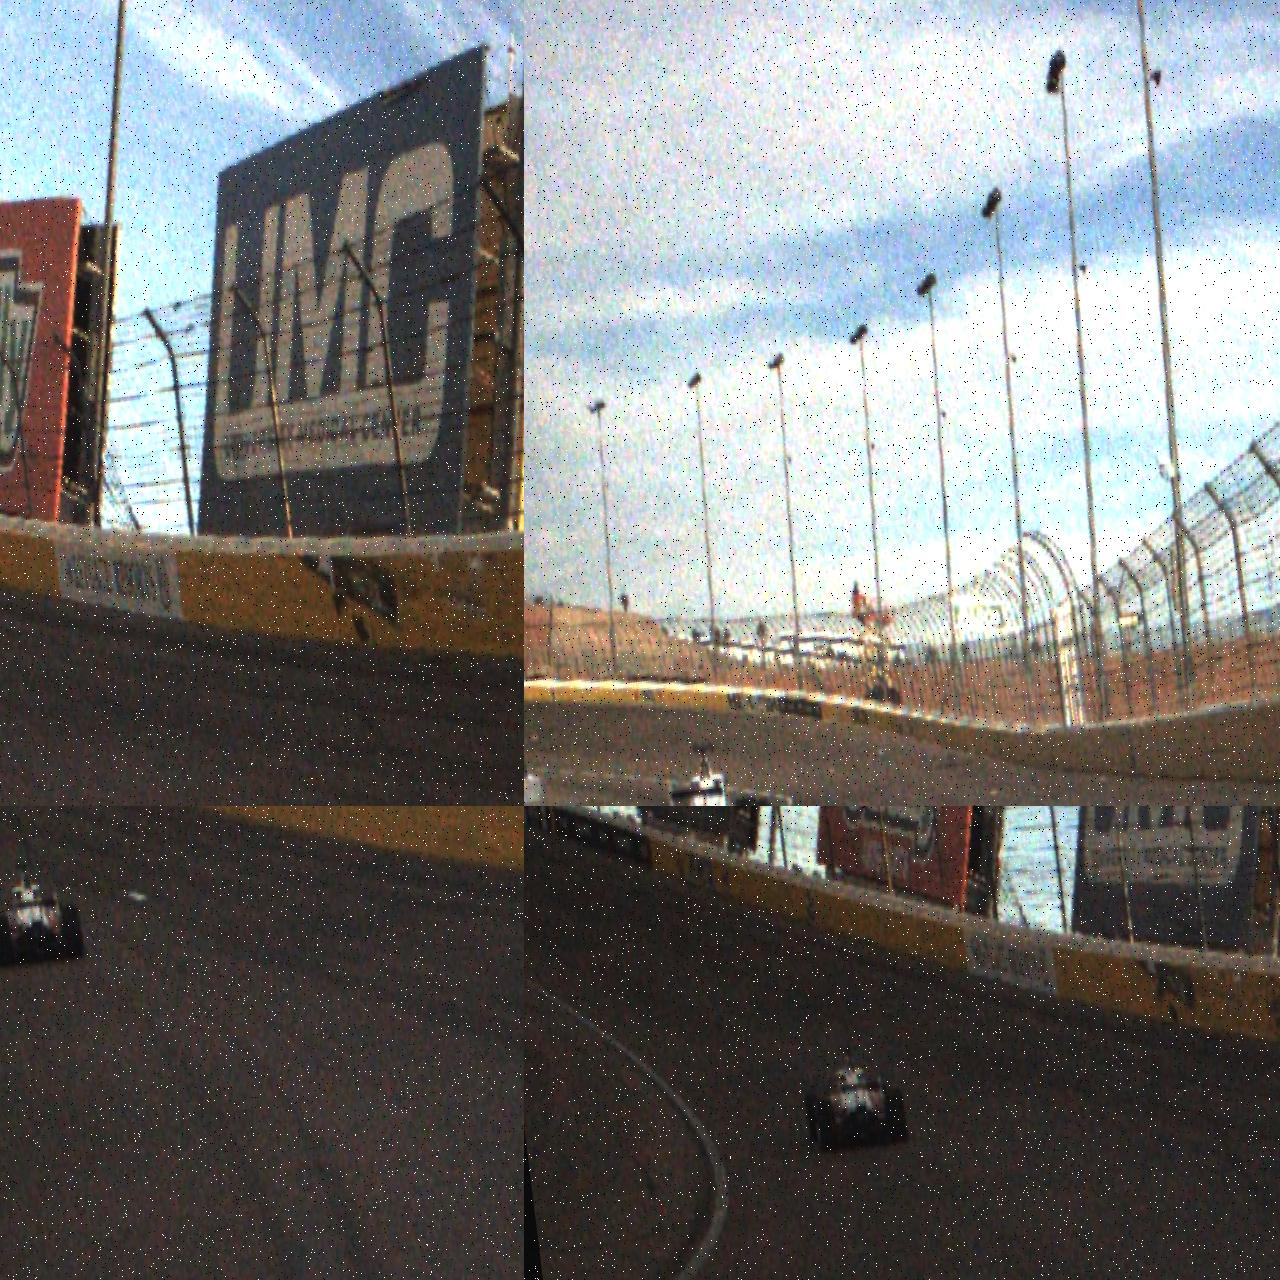AV: (797, 1036, 910, 1157), (636, 737, 779, 806), (0, 857, 86, 971)
Wheel: (61, 904, 86, 960), (886, 1085, 910, 1144), (815, 1098, 838, 1155), (803, 1092, 823, 1146), (0, 915, 14, 969)
